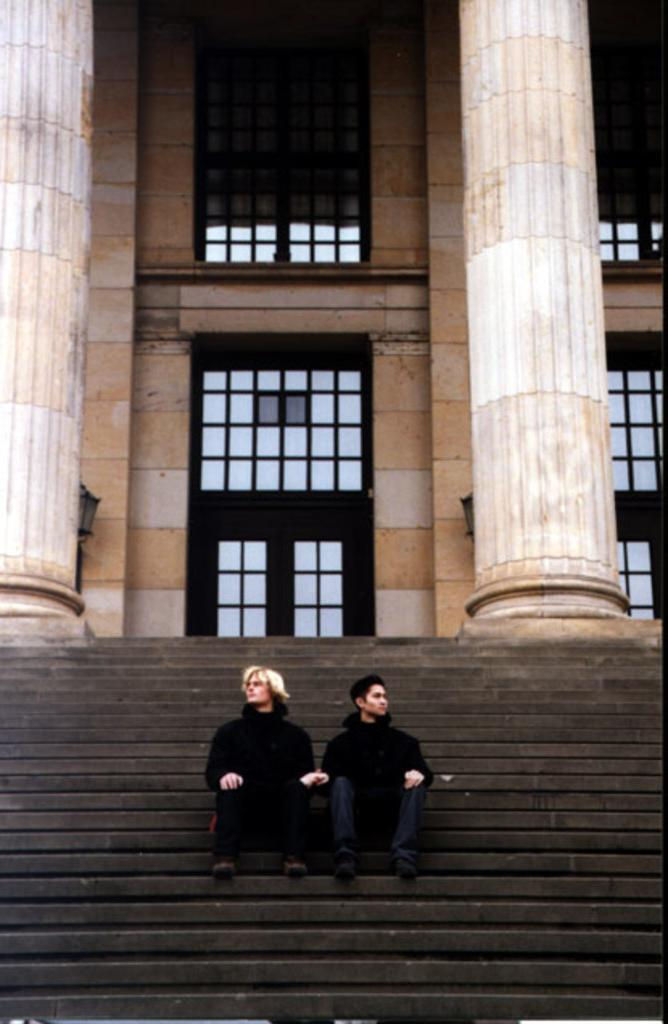door: (280, 518, 365, 636), (200, 513, 272, 650)
